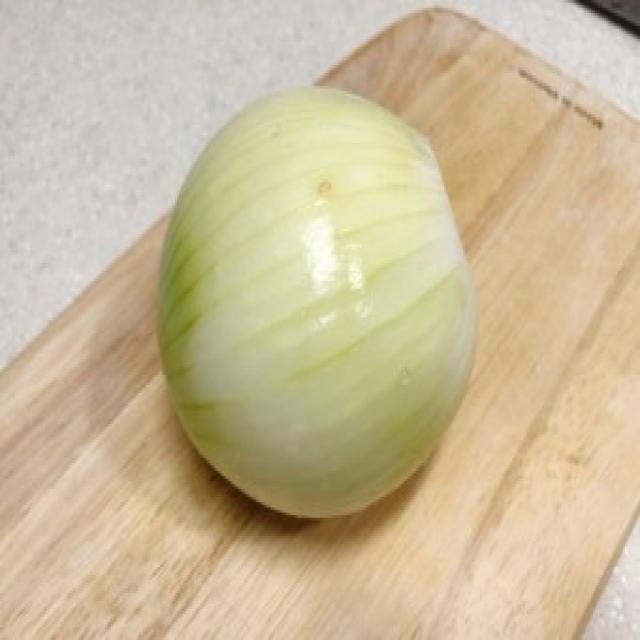onion: (148, 74, 486, 530)
